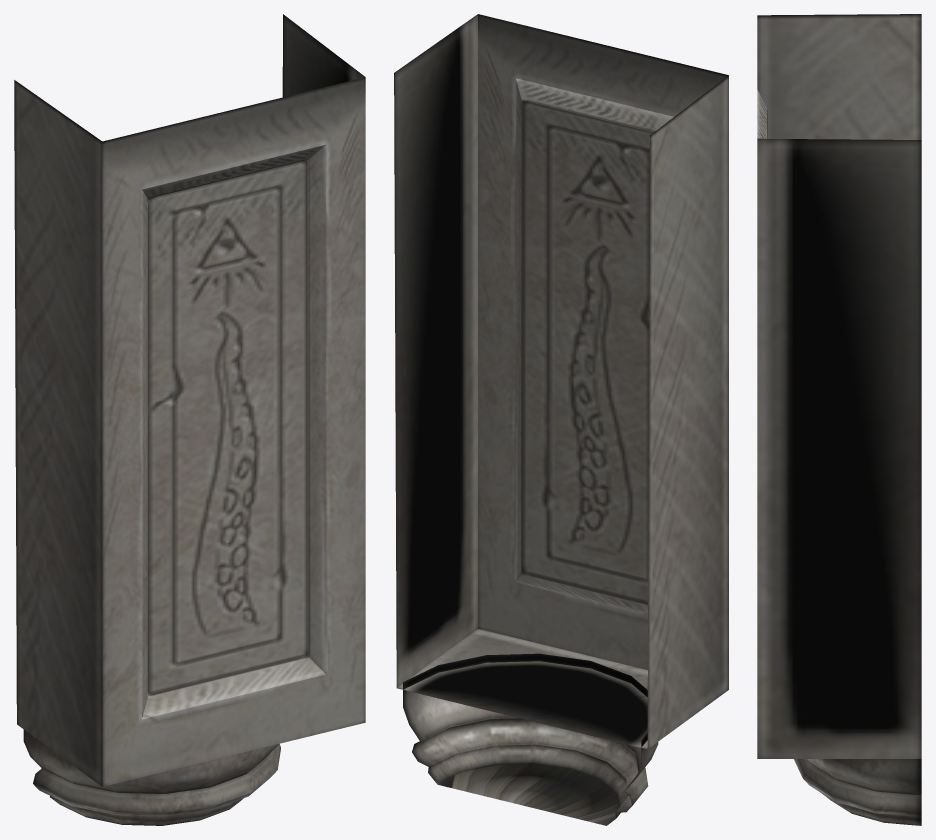
Rendered from support_arcade.fbx.
3 renders of one model, left to right at view 1: azimuth 30°, elevation 25°; view 2: azimuth 150°, elevation 25°; view 3: azimuth 270°, elevation 25°, orthographic. The views are drawn at different scales.
Visible parts, largest first — view 1: polySurface1546; view 2: polySurface1546; view 3: polySurface1546.
Boxes of the visible parts, box(x1,y1,x2,y2) form: polySurface1546: box(14, 14, 365, 825); polySurface1546: box(394, 14, 728, 825); polySurface1546: box(757, 14, 921, 825).
Bounding box in the file's own units: 69.34 × 181 × 38.18.
